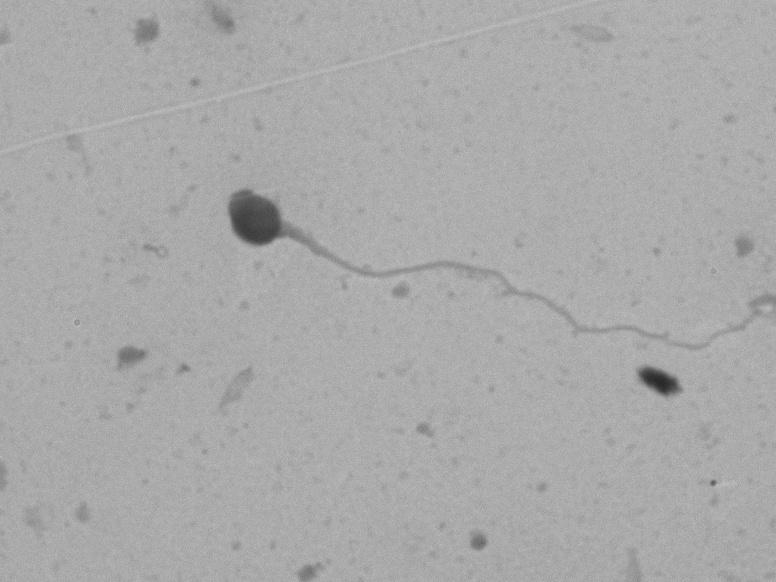Abnormal: (192, 147, 765, 359)
